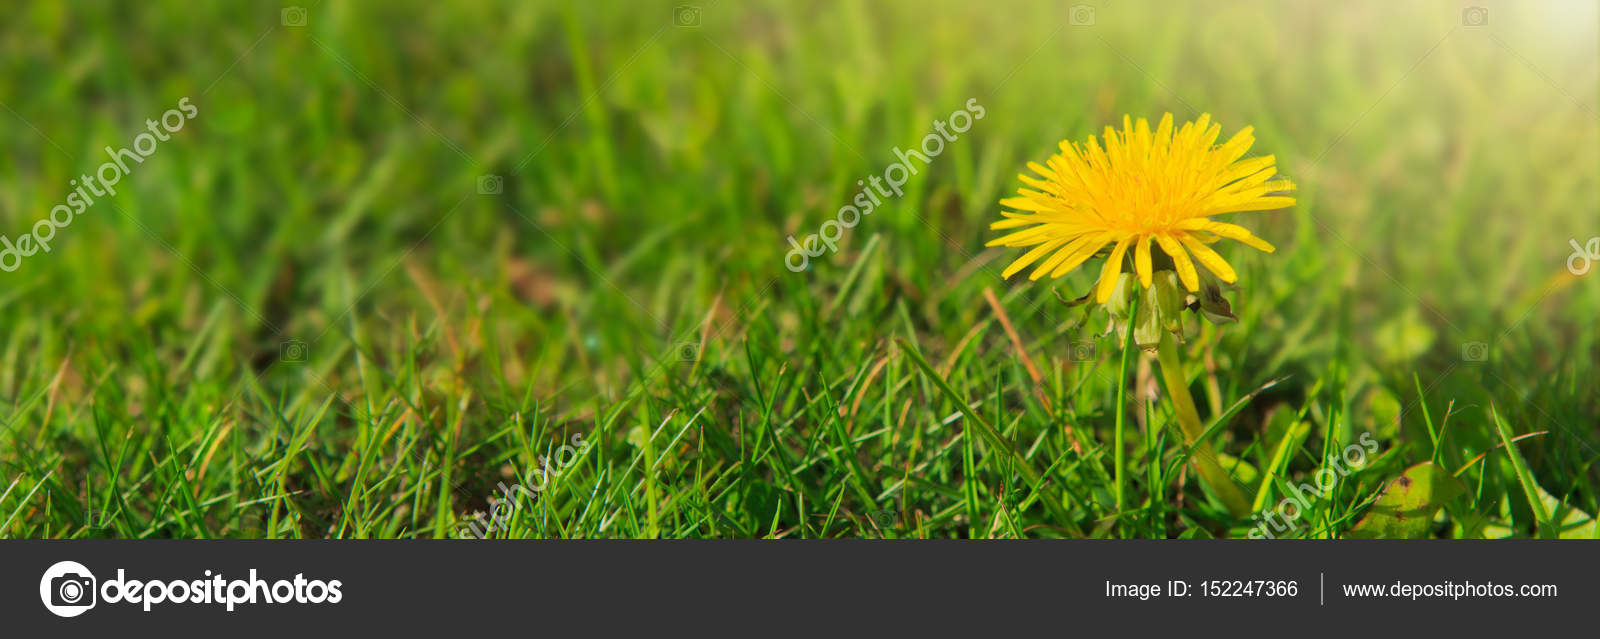dandelion: (986, 120, 1285, 294)
